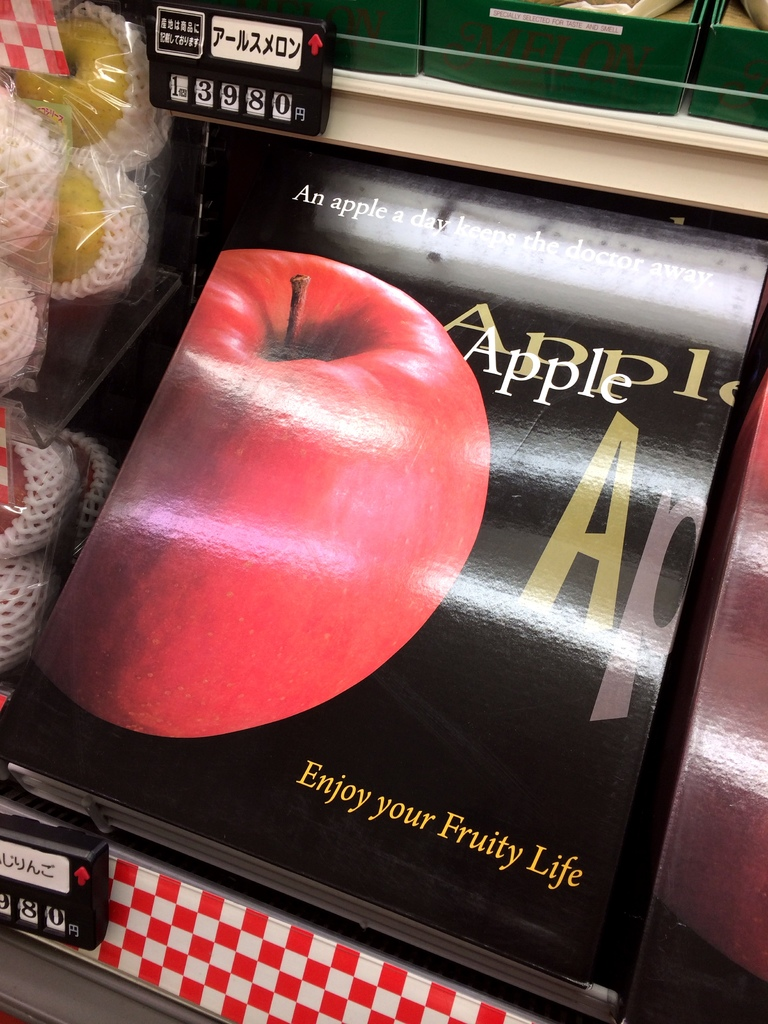Apple: (67, 271, 469, 744)
